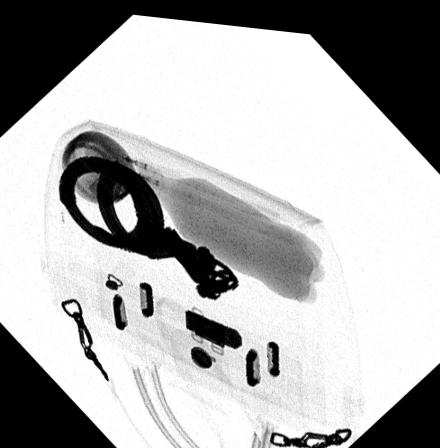HandCuffs: (57, 151, 241, 297)
